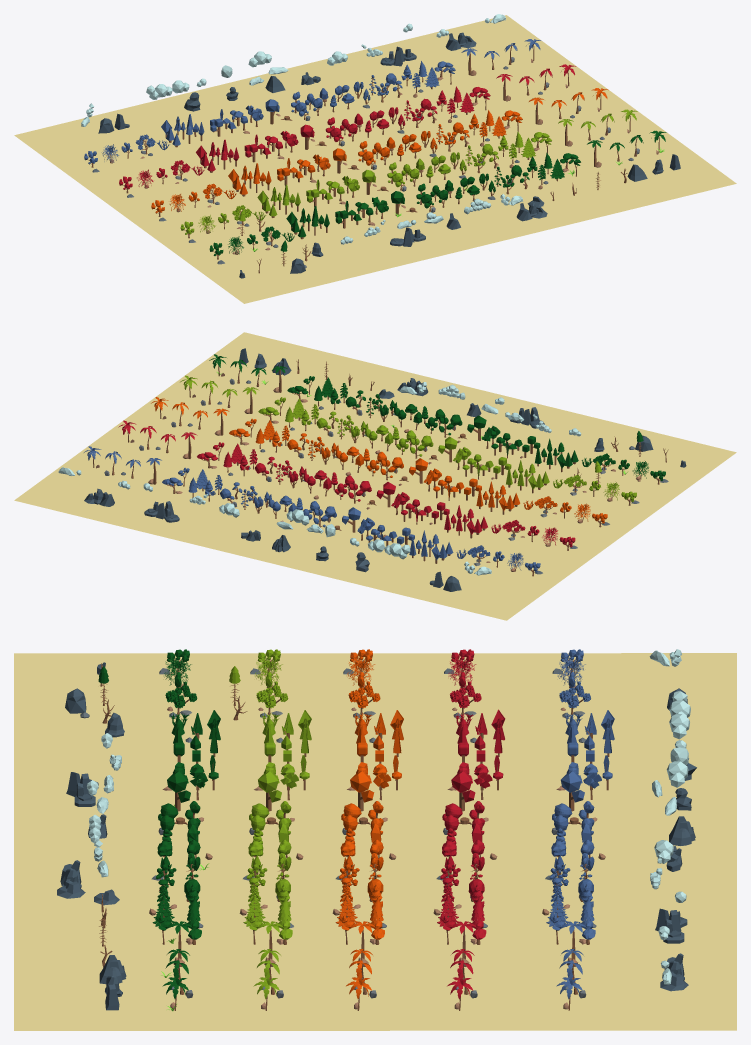
Rendered from polygon_tree_pack.glb.
3 views of the same model, one above another, from view 1: azimuth 30°, elevation 25°; view 2: azimuth 150°, elevation 25°; view 3: azimuth 270°, elevation 25° (orthographic). The views are drawn at different scales.
Parts seen in each view (by area): view 1: Plane.002_49, cloud 12_34; view 2: Plane.002_49, cloud 12_34; view 3: Plane.002_49, cloud 12_34, Rock 6_540, Rock 17_532, Rock 4_541, Stone 5_546, Stone 2_543, Stone 4_545.
Part boxes in pixels (x1=…): Plane.002_49: x1=14, y1=15, x2=736, y2=303; cloud 12_34: x1=146, y1=80, x2=189, y2=99; Plane.002_49: x1=14, y1=332, x2=736, y2=620; cloud 12_34: x1=368, y1=539, x2=410, y2=559; Plane.002_49: x1=14, y1=653, x2=736, y2=1030; cloud 12_34: x1=669, y1=691, x2=690, y2=739; Rock 6_540: x1=57, y1=860, x2=85, y2=898; Rock 17_532: x1=655, y1=908, x2=687, y2=943; Rock 4_541: x1=66, y1=772, x2=98, y2=806; Stone 5_546: x1=542, y1=668, x2=605, y2=1009; Stone 2_543: x1=239, y1=668, x2=303, y2=1009; Stone 4_545: x1=433, y1=668, x2=497, y2=1009.
Size of the model in its own units: 53.38 by 4.55 by 43.19.
